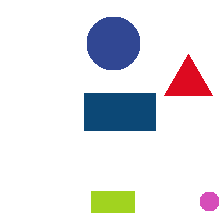circle: (87, 17, 139, 69), (200, 192, 218, 210)
rectangle: (84, 93, 155, 130), (91, 191, 134, 212)
triangle: (164, 54, 212, 95)
